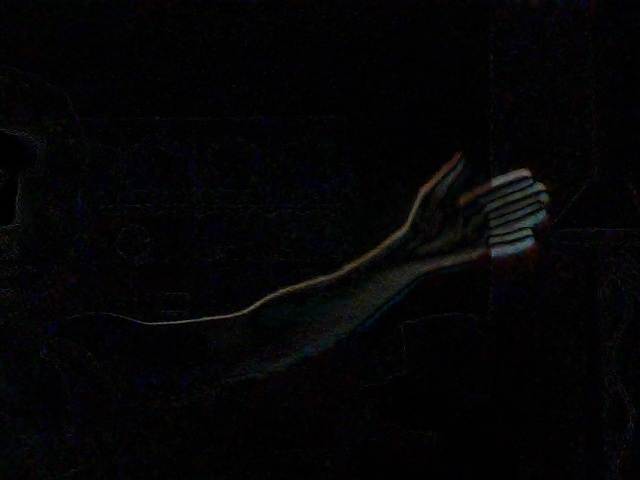hand_pa: (400, 144, 553, 275)
